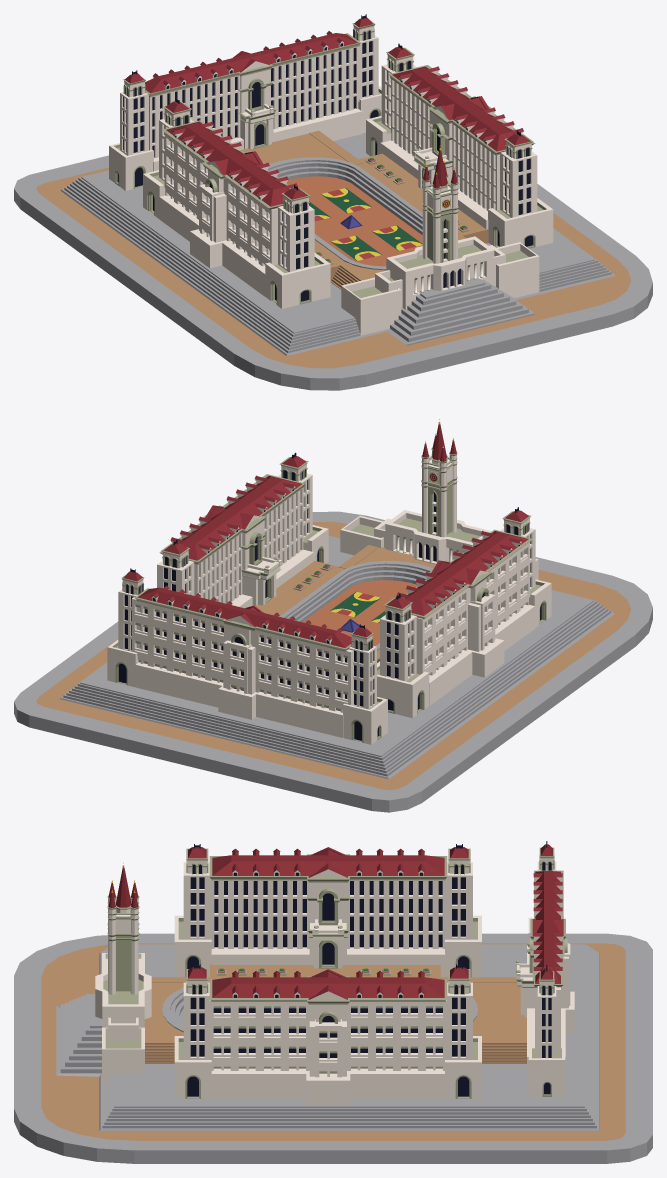
Rendered from NewDormFullSet.fbx.
The picture shows the model from 3 angles, top to bottom: view 1: azimuth 30°, elevation 25°; view 2: azimuth 150°, elevation 25°; view 3: azimuth 270°, elevation 25°; orthographic projection. The views are drawn at different scales.
Visible parts, largest first — view 1: newbase.001, newbase, Cube.149, Cube.199, Cube.174, Cube.224; view 2: newbase.001, Cube.149, newbase, Cube.199, Cube.174, Cube.224; view 3: newbase.001, Cube.174, newbase, Cube.199, Cube.224, Cube.149.
Part boxes in pixels (x1,y1,x2,y2): newbase.001: (14, 155, 652, 390); newbase: (60, 130, 615, 355); Cube.149: (109, 14, 381, 190); Cube.199: (143, 98, 330, 308); Cube.174: (366, 43, 553, 248); Cube.224: (341, 145, 539, 345); newbase.001: (14, 511, 652, 812); Cube.149: (107, 568, 387, 744); newbase: (60, 535, 614, 779); Cube.199: (377, 507, 551, 718); Cube.174: (157, 452, 328, 608); Cube.224: (340, 419, 538, 579); newbase.001: (14, 933, 652, 1163); Cube.174: (174, 964, 481, 1105); newbase: (99, 944, 599, 1130); Cube.199: (174, 844, 481, 977); Cube.224: (56, 862, 151, 1088); Cube.149: (516, 841, 574, 1096).
Size of the model in its own units: 685 by 285 by 854.
